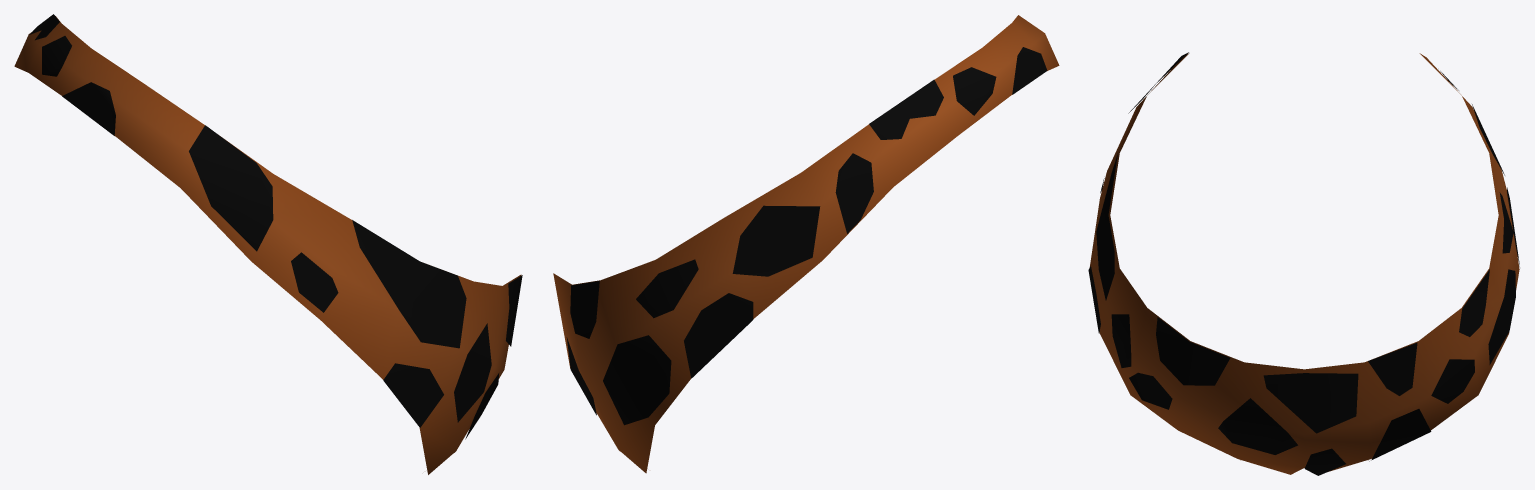
File: hat_skinsash.glb
3 renders of one model, left to right at view 1: azimuth 30°, elevation 25°; view 2: azimuth 150°, elevation 25°; view 3: azimuth 270°, elevation 25°, orthographic. The views are drawn at different scales.
Parts seen in each view (by area): view 1: hat_skinsash; view 2: hat_skinsash; view 3: hat_skinsash.
Boxes of the visible parts, x1,y1,x2,y2 form: hat_skinsash: (14, 14, 522, 474); hat_skinsash: (553, 15, 1059, 473); hat_skinsash: (1088, 52, 1519, 475).
Size of the model in its own units: 0.4505 by 0.4856 by 0.5259.
